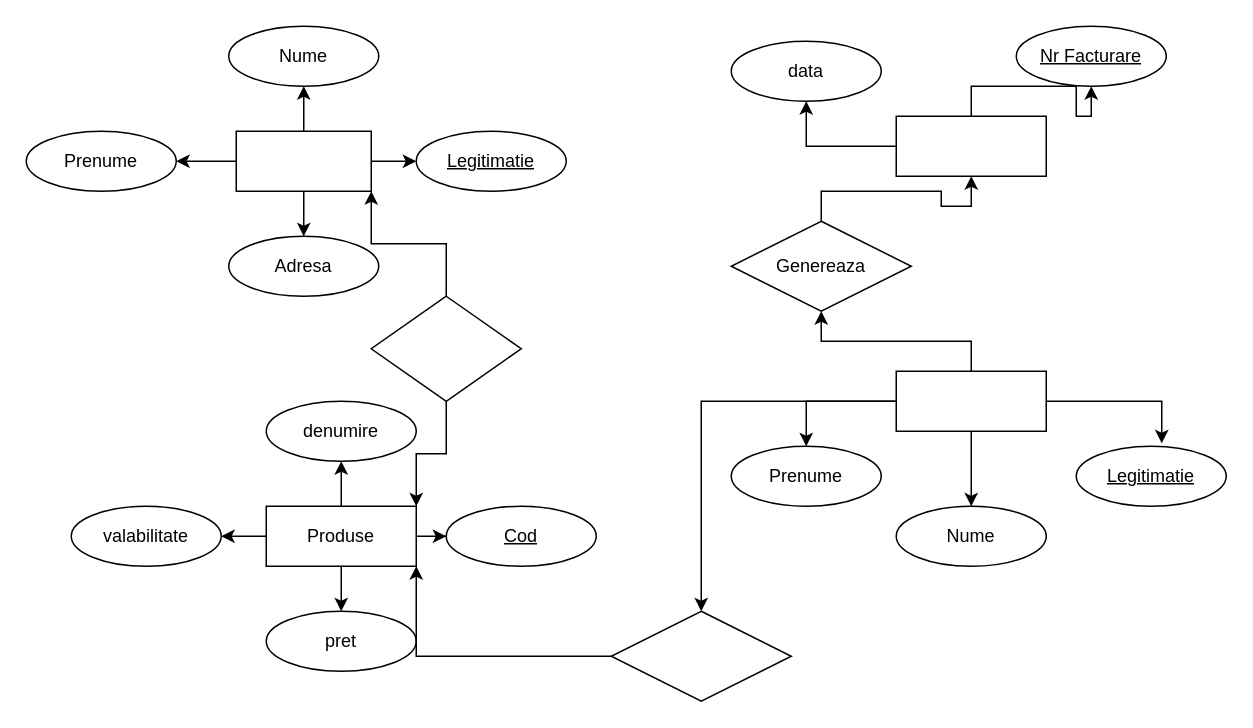
The diagram is 1253 pixels wide and 728 high, and some of its shapes have lost their labels. The shapes that lost their labels are listed below. From the top down, each one's centre as x and y in pixels, then its label:
point 303,160: Clienti
point 970,145: Factura
point 445,348: Cumpara
point 970,400: Angajati
point 700,655: vinde
